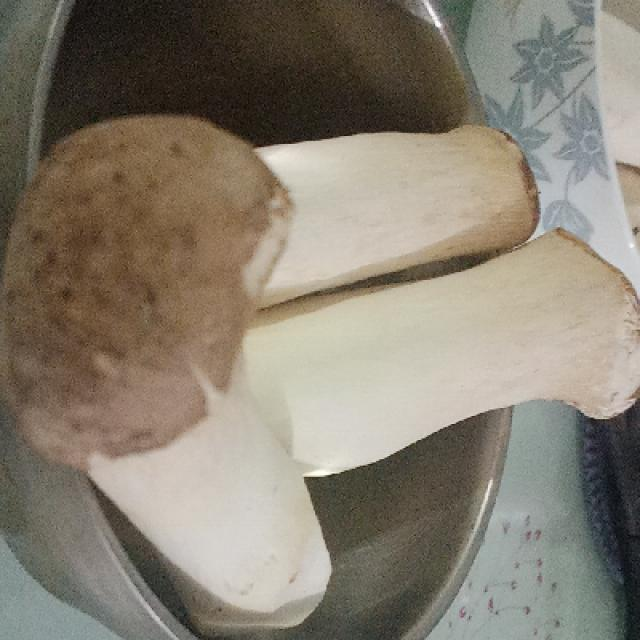Pleurotus eryngii: (21, 118, 638, 638)
